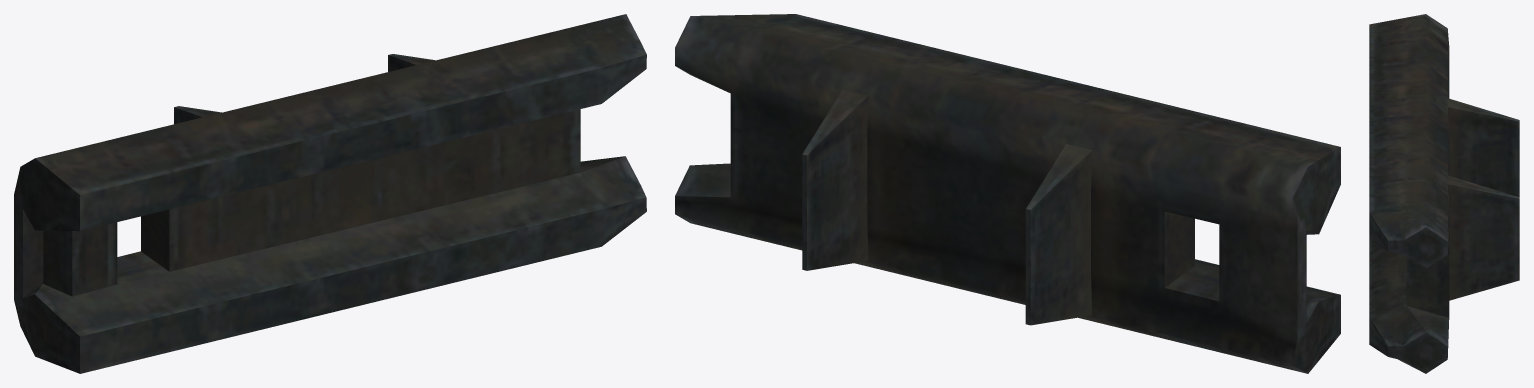
3 renders of one model, left to right at view 1: azimuth 30°, elevation 25°; view 2: azimuth 150°, elevation 25°; view 3: azimuth 270°, elevation 25°, orthographic. The views are drawn at different scales.
Parts seen in each view (by area): view 1: set_0_group_0; view 2: set_0_group_0; view 3: set_0_group_0.
Boxes of the visible parts, bbox=[...] form: set_0_group_0: bbox=[14, 14, 646, 373]; set_0_group_0: bbox=[675, 14, 1340, 373]; set_0_group_0: bbox=[1369, 14, 1519, 373].
Size of the model in its own units: 0.6601 by 0.2097 by 0.1945.
Materials: 1 (1 with a texture image).
